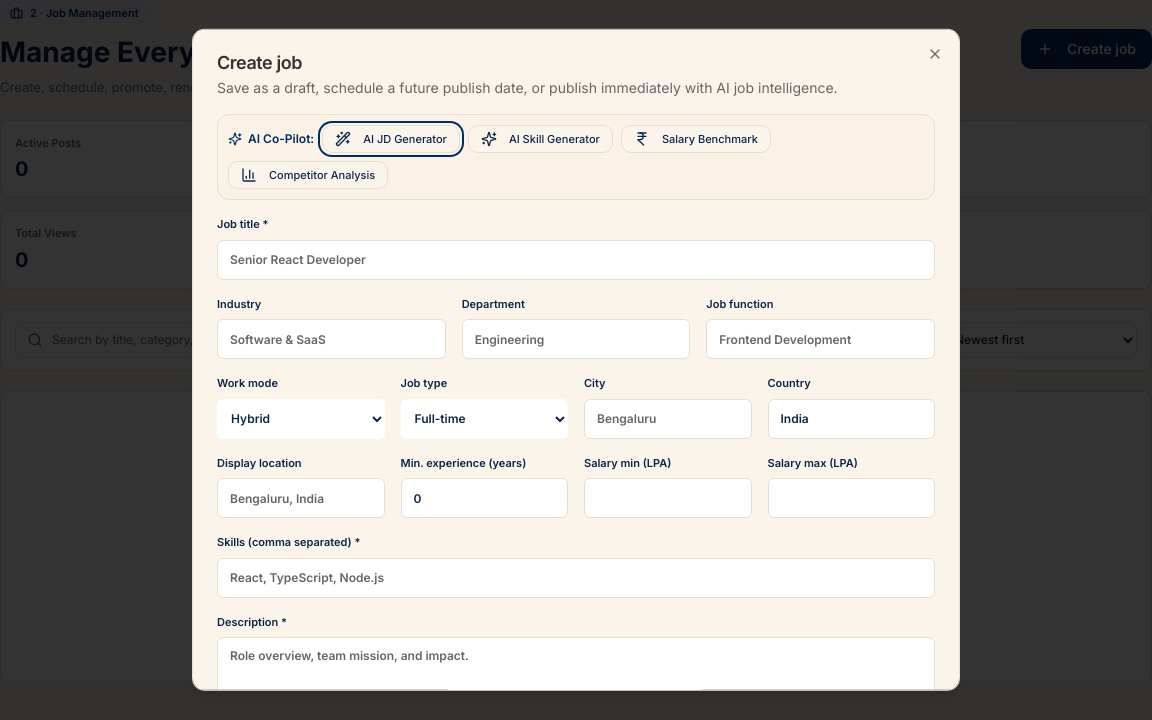
Scenario: Jobs and drafts › requires a description and skills before publishing
The width and height of the screenshot is (1152, 720).
Type "Data Analyst" into the field with placeholder "Senior React Developer".
click(576, 259); type("Data Analyst")  # box [217,239,935,279]
(page scrolled)
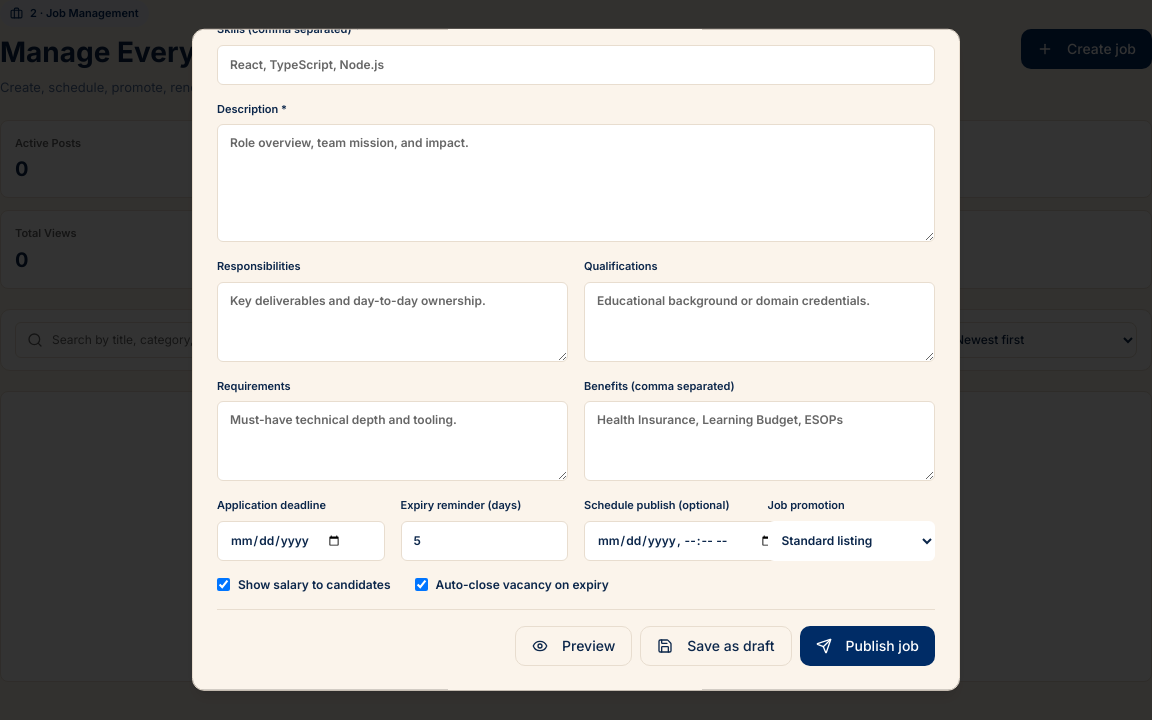
Click the button "Publish job".
click(867, 645)  # box [800,625,935,665]
(page scrolled)
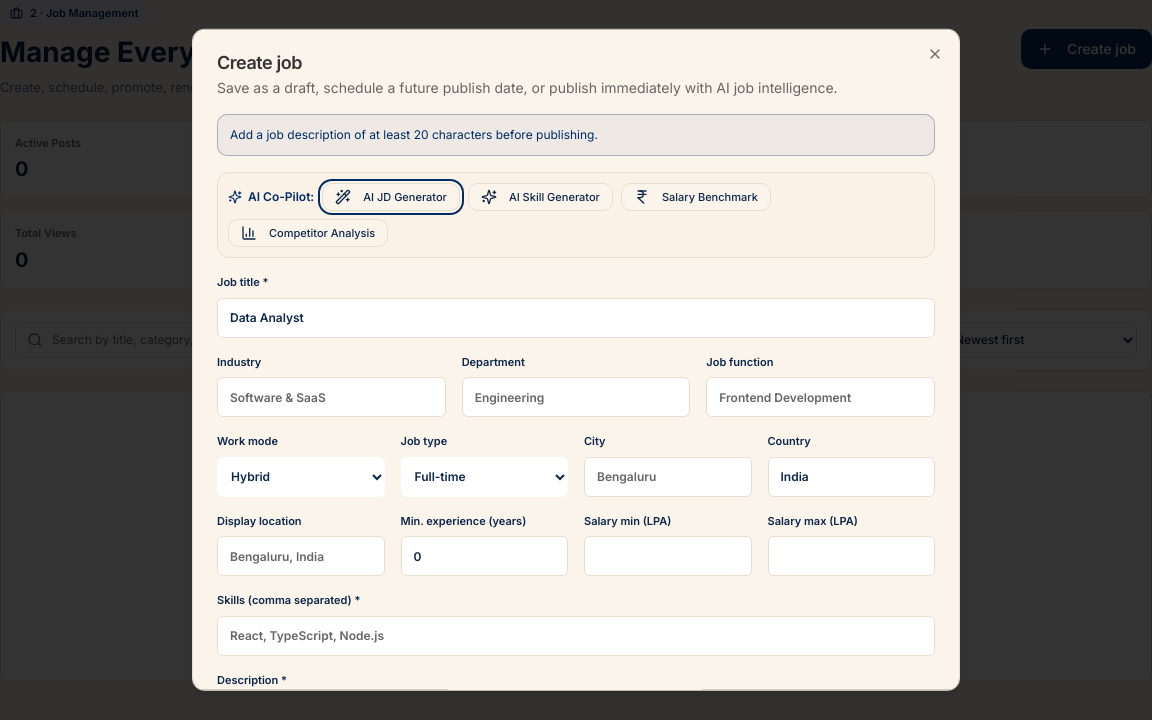
Check: the message shows "description", box [230,127,598,142]
